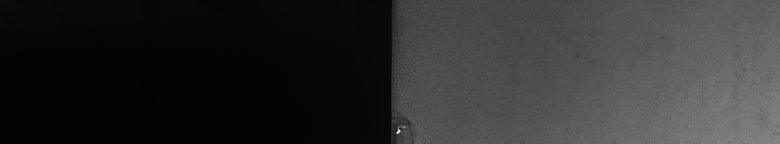hb: (400, 111, 415, 136)
